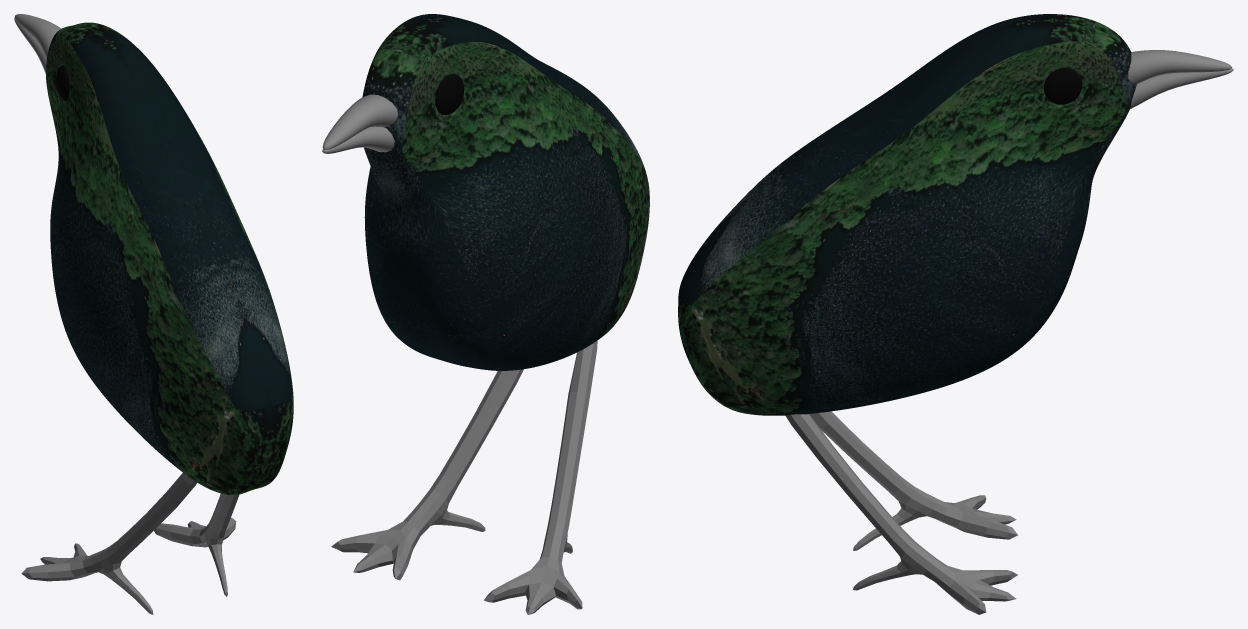
Rendered from Momoto_Rufo_Test.fbx.
3 renders of one model, left to right at view 1: azimuth 30°, elevation 25°; view 2: azimuth 150°, elevation 25°; view 3: azimuth 270°, elevation 25°, orthographic. The views are drawn at different scales.
Visible parts, largest first — view 1: Cube.002; view 2: Cube.002; view 3: Cube.002.
Boxes of the visible parts, x1,y1,x2,y2 form: Cube.002: (14, 14, 293, 614); Cube.002: (322, 14, 649, 614); Cube.002: (678, 14, 1233, 614).
Bounding box in the file's own units: 125 × 282 × 258.
